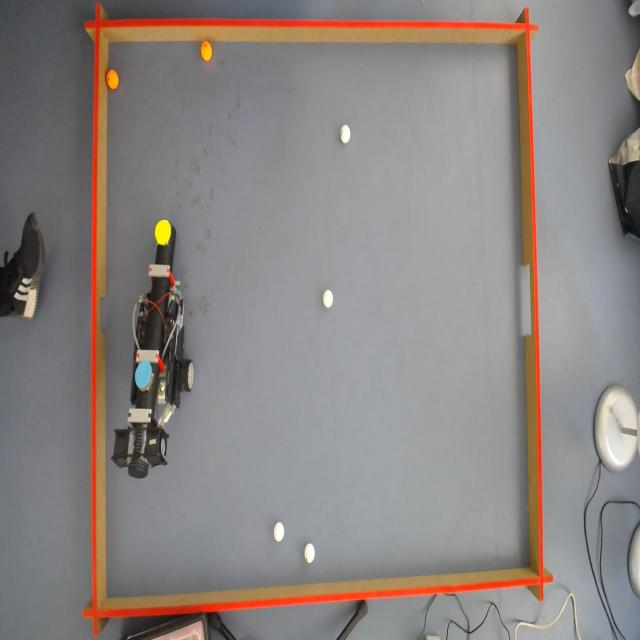orange: (107, 69, 122, 89), (200, 41, 212, 64)
robot: (117, 218, 196, 478)
robot-front: (156, 222, 172, 244)
robot-rear: (132, 357, 153, 390)
white: (304, 542, 317, 564), (321, 289, 334, 309), (273, 520, 285, 541), (340, 124, 350, 144)
